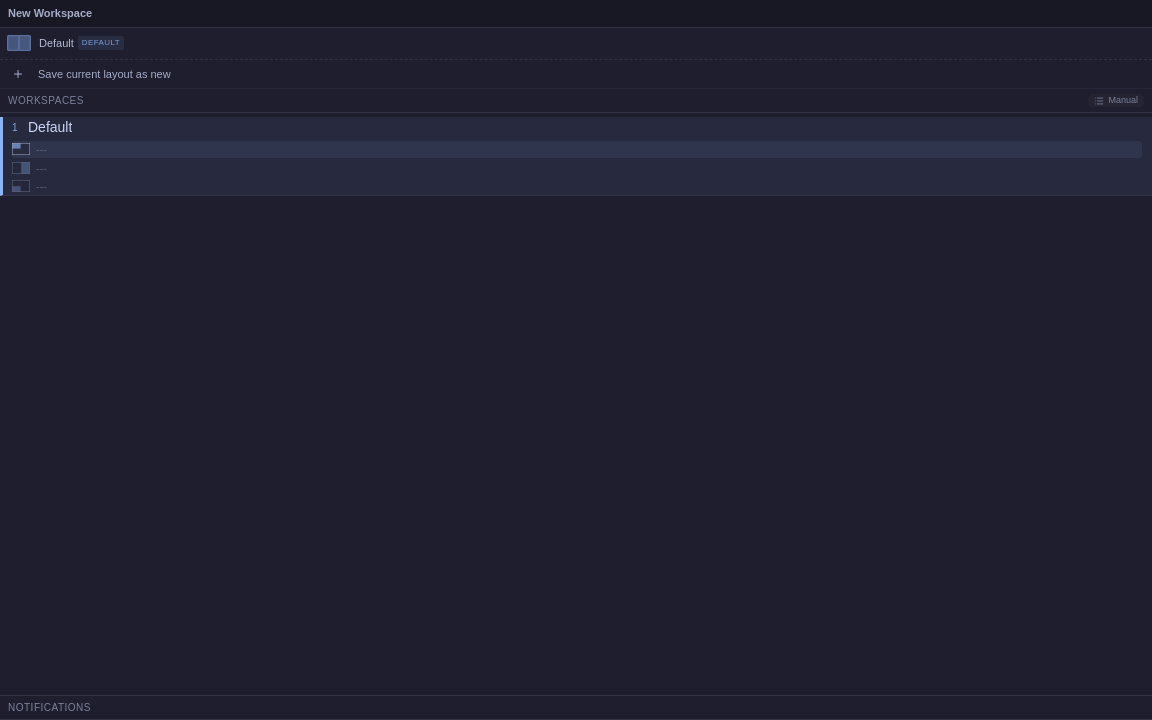
WorkspaceSelectorView › offers export-new next to the layout cards
Step 1. Click the button with test id "export-new-btn" → (104, 74), box [4,66,1148,82]
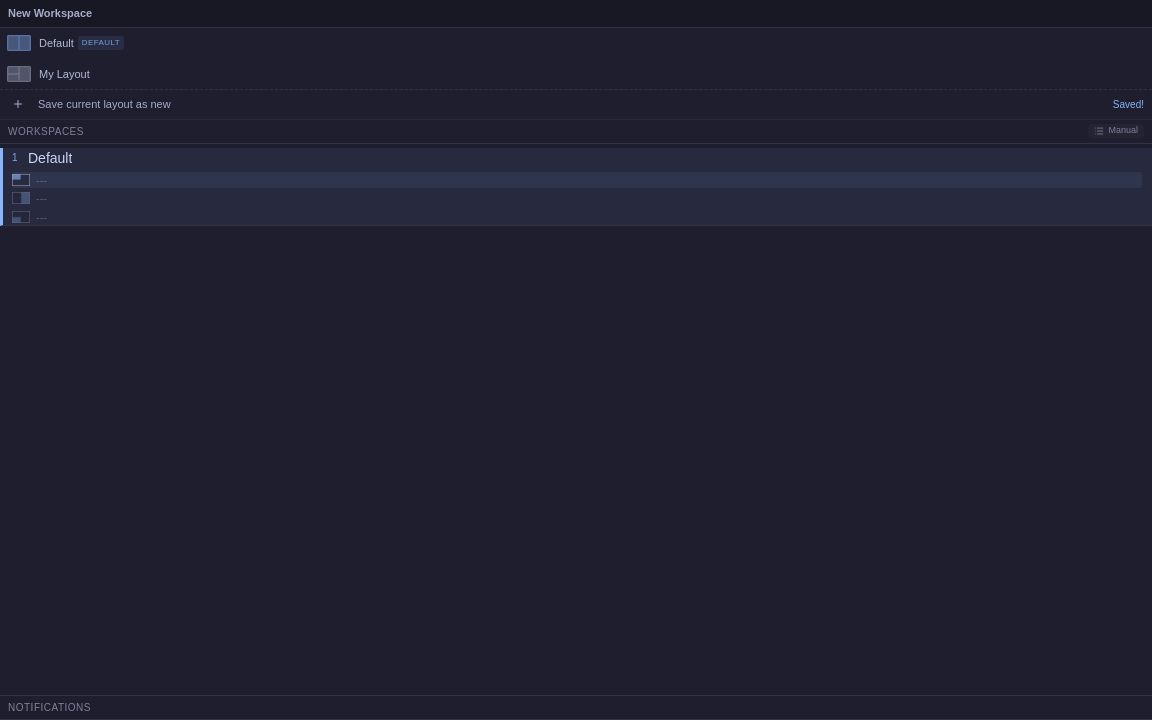
Now the text "My Layout" is shown, box [39,66,90,82]
Now the text with test id "layout-saved-indicator" reads "Saved!", box [1113,99,1144,110]
